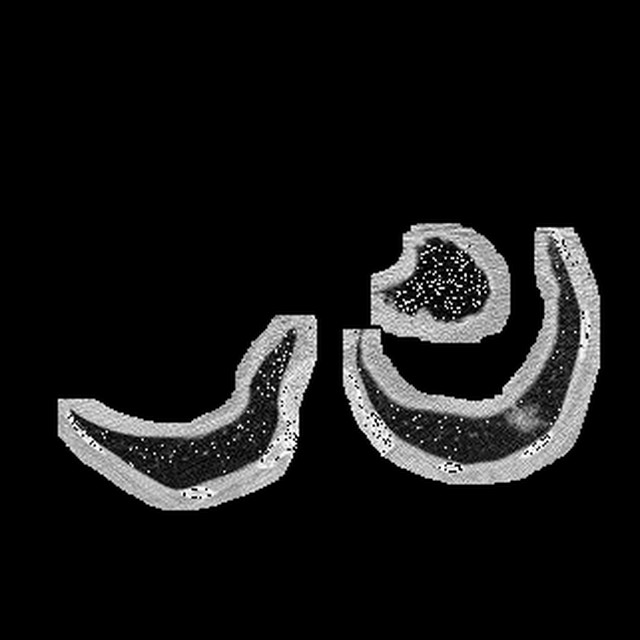PN: (508, 405, 540, 437)
